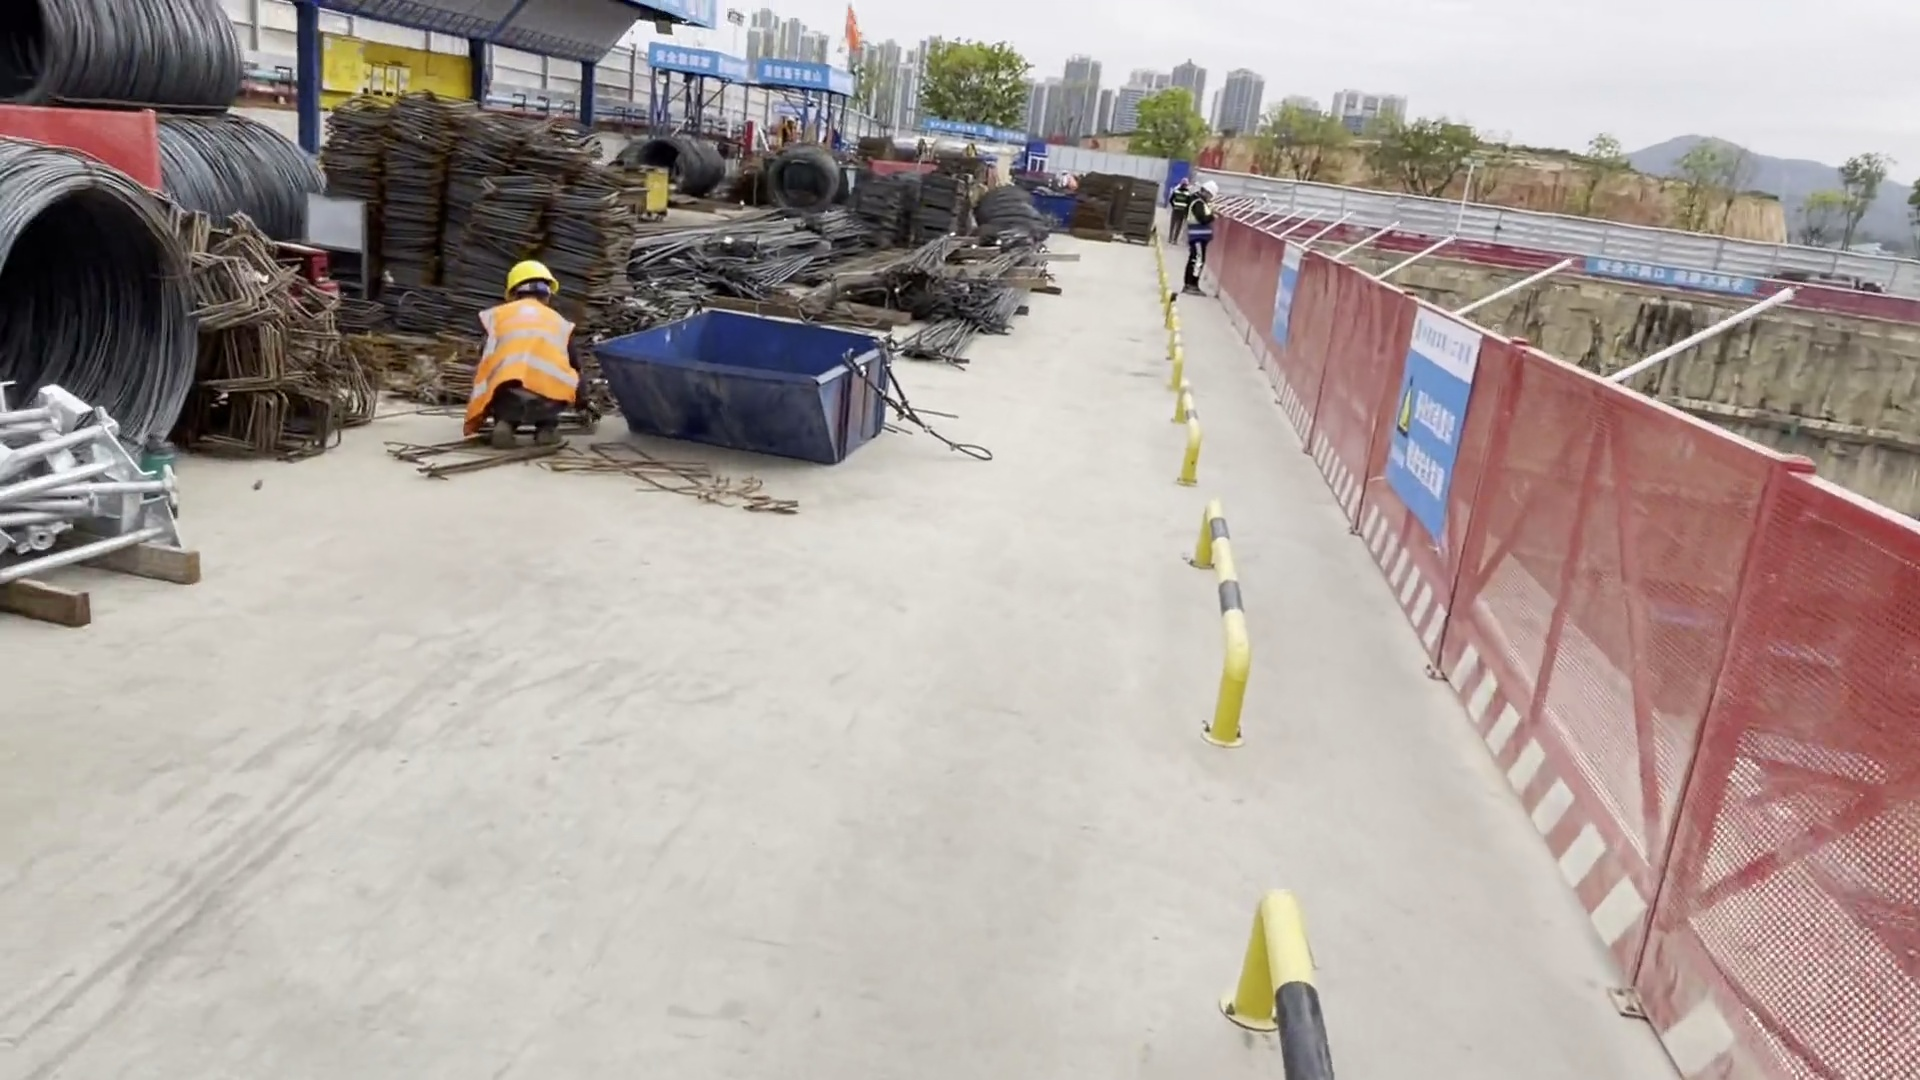ebox: (318, 35, 417, 101), (635, 165, 675, 221)
fence: (1262, 323, 1920, 1080)
helmet: (502, 257, 559, 284), (1203, 180, 1220, 198), (1180, 176, 1192, 190)
hopper: (603, 304, 913, 477)
person: (470, 240, 588, 454), (1187, 176, 1217, 314), (1172, 177, 1188, 241), (782, 115, 804, 150)
slogan: (1385, 311, 1477, 549), (1587, 254, 1761, 295), (655, 51, 717, 76), (765, 64, 826, 85)
vest: (483, 295, 579, 396), (1188, 198, 1216, 239), (1173, 189, 1188, 216)
